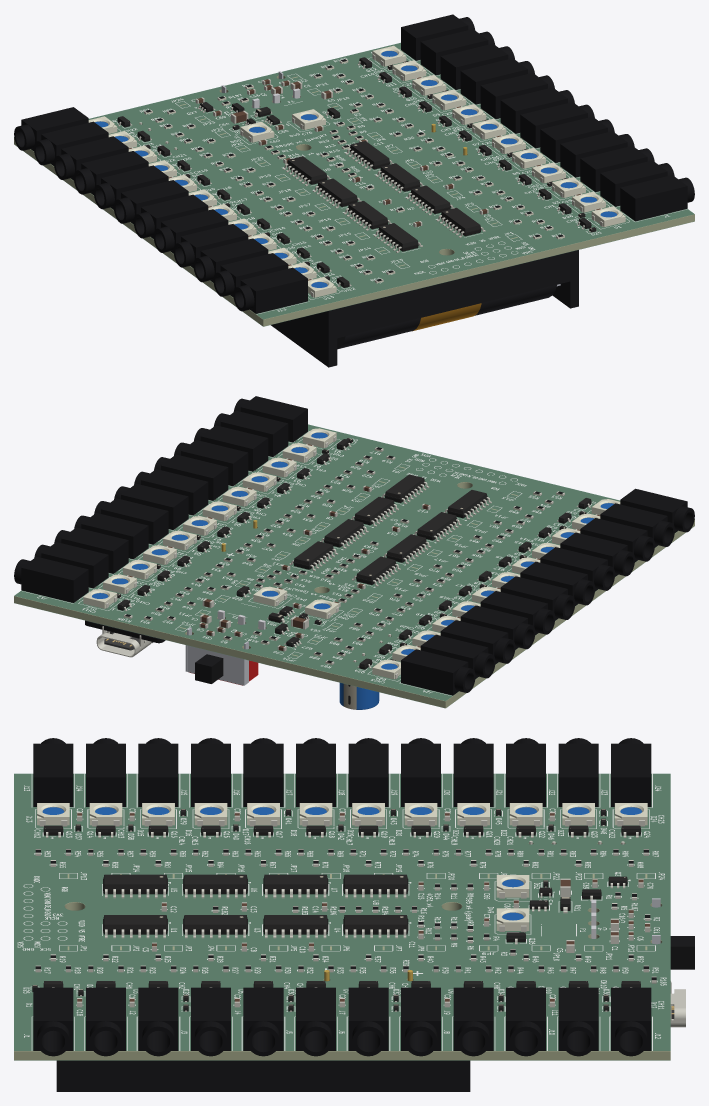
Rendered from pcb.glb.
The picture shows the model from 3 angles, top to bottom: view 1: azimuth 30°, elevation 25°; view 2: azimuth 150°, elevation 25°; view 3: azimuth 270°, elevation 25°; orthographic projection. The views are drawn at different scales.
Parts seen in each view (by area): view 1: ref:=>[0:1:1:113], ref:=>[0:1:1:114], housing (×24), holder_body, ref:=>[0:1:1:111], =>[0:1:1:96] (×8), cell, cell_label; view 2: ref:=>[0:1:1:113], ref:=>[0:1:1:114], housing (×25), ref:=>[0:1:1:111], =>[0:1:1:94] (×14), =>[0:1:1:96] (×8), =>0:1:1:66, =>[0:1:1:30], actuator; view 3: ref:=>[0:1:1:113], ref:=>[0:1:1:114], housing (×24), ref:=>[0:1:1:111], holder_body, =>[0:1:1:96] (×8), =>[0:1:1:94] (×14), actuator, ref:=>[0:1:1:112], =>0:1:1:66.
Part boxes in pixels (<box>): ref:=>[0:1:1:113]: <box>52,42,694,319</box>; ref:=>[0:1:1:114]: <box>14,43,694,326</box>; housing (×24): <box>14,14,694,313</box>; holder_body: <box>271,250,578,367</box>; ref:=>[0:1:1:111]: <box>112,49,687,314</box>; =>[0:1:1:96] (×8): <box>282,141,485,252</box>; cell: <box>337,285,556,349</box>; cell_label: <box>412,303,481,331</box>; ref:=>[0:1:1:113]: <box>14,424,676,700</box>; ref:=>[0:1:1:114]: <box>14,425,694,708</box>; housing (×25): <box>14,396,694,695</box>; ref:=>[0:1:1:111]: <box>21,431,595,695</box>; =>[0:1:1:94] (×14): <box>83,428,338,618</box>; =>[0:1:1:96] (×8): <box>289,474,491,586</box>; =>0:1:1:66: <box>96,626,153,657</box>; =>[0:1:1:30]: <box>339,653,379,709</box>; actuator: <box>195,654,223,683</box>; ref:=>[0:1:1:113]: <box>14,773,670,1050</box>; ref:=>[0:1:1:114]: <box>14,774,670,1060</box>; housing (×24): <box>33,738,651,1056</box>; ref:=>[0:1:1:111]: <box>17,773,666,1050</box>; holder_body: <box>56,1060,470,1091</box>; =>[0:1:1:96] (×8): <box>103,874,408,938</box>; =>[0:1:1:94] (×14): <box>37,803,647,931</box>; actuator: <box>670,936,694,969</box>; ref:=>[0:1:1:112]: <box>14,1060,670,1060</box>; =>0:1:1:66: <box>670,981,685,1027</box>.
Size of the model in its own units: 0.104 by 0.0227 by 0.1037.
